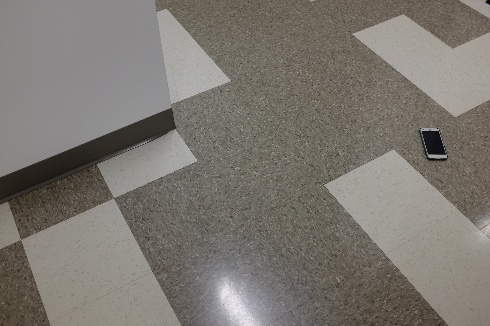phone: (409, 127, 458, 159)
